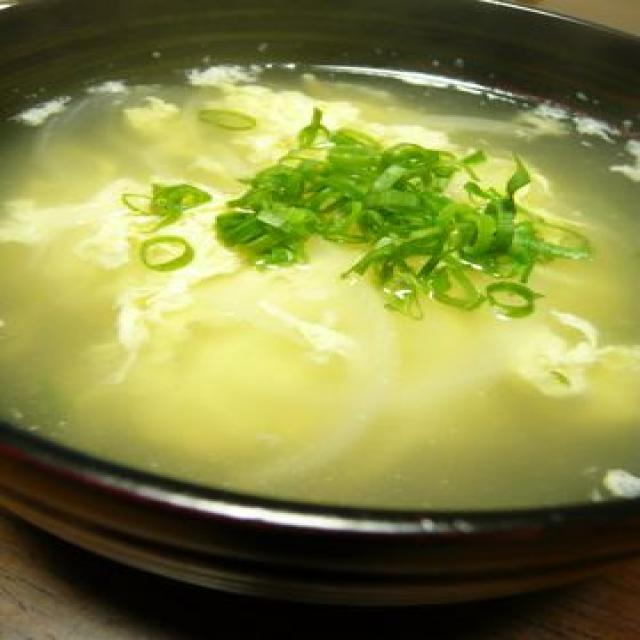汤锅炖物: (0, 0, 638, 640)
